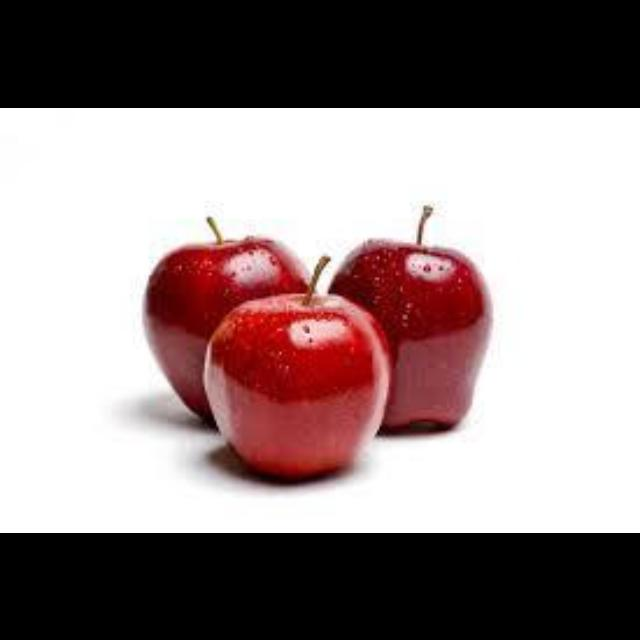apple: (205, 279, 389, 477), (328, 205, 491, 428), (144, 216, 307, 421)
